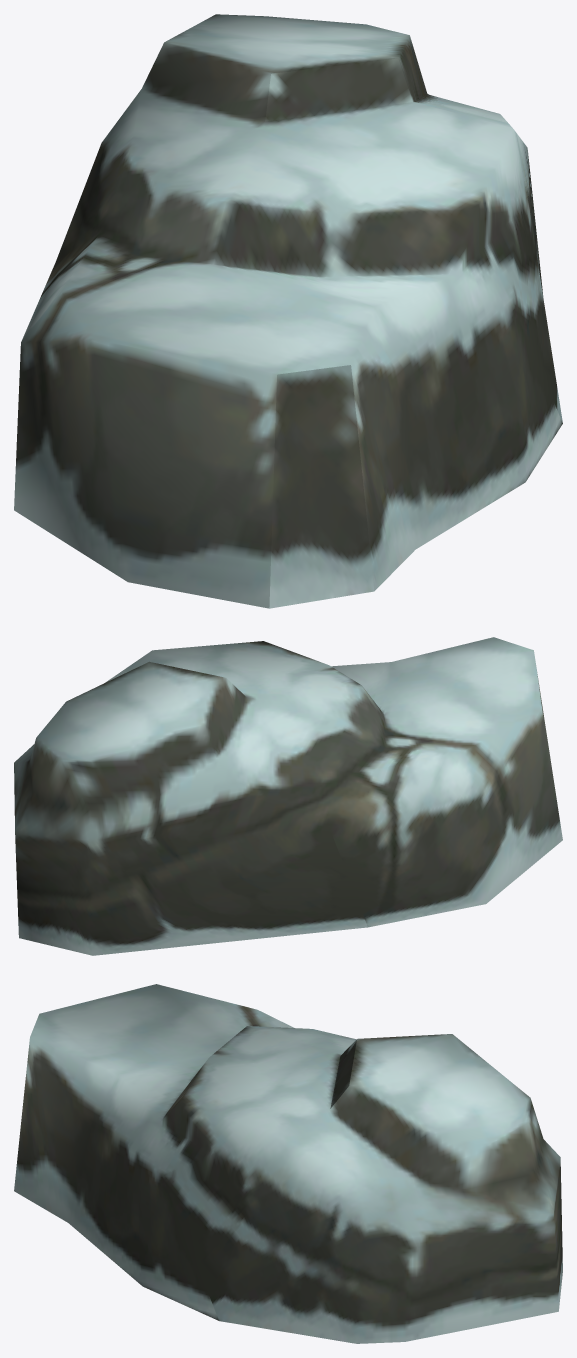
The picture shows the model from 3 angles, top to bottom: view 1: azimuth 30°, elevation 25°; view 2: azimuth 150°, elevation 25°; view 3: azimuth 270°, elevation 25°; orthographic projection. The views are drawn at different scales.
Visible parts, largest first — view 1: X_wj3; view 2: X_wj3; view 3: X_wj3.
Boxes of the visible parts, x1,y1,x2,y2 form: X_wj3: (14,14,562,608); X_wj3: (14,637,562,955); X_wj3: (14,984,562,1343).
Bounding box in the file's own units: 184 × 94.17 × 214.
Materials: 1 (1 with a texture image).
